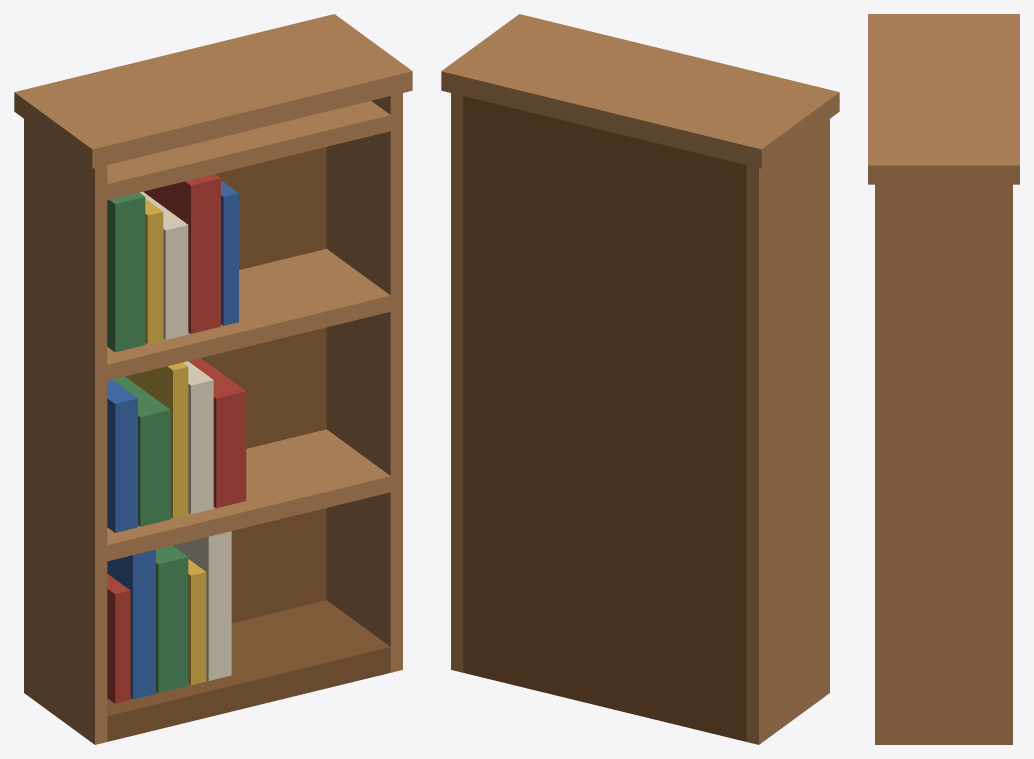
The model's file is bookcase.glb.
The picture shows the model from 3 angles, left to right: view 1: azimuth 30°, elevation 25°; view 2: azimuth 150°, elevation 25°; view 3: azimuth 270°, elevation 25°; orthographic projection. The views are drawn at different scales.
Visible parts, largest first — view 1: bookcase; view 2: bookcase; view 3: bookcase.
Part boxes in pixels (x1=…): bookcase: x1=14, y1=14, x2=412, y2=744; bookcase: x1=441, y1=14, x2=839, y2=744; bookcase: x1=868, y1=14, x2=1019, y2=744.
Size of the model in its own units: 0.52 by 0.93 by 0.22.
Materials: 1 (1 with a texture image).
